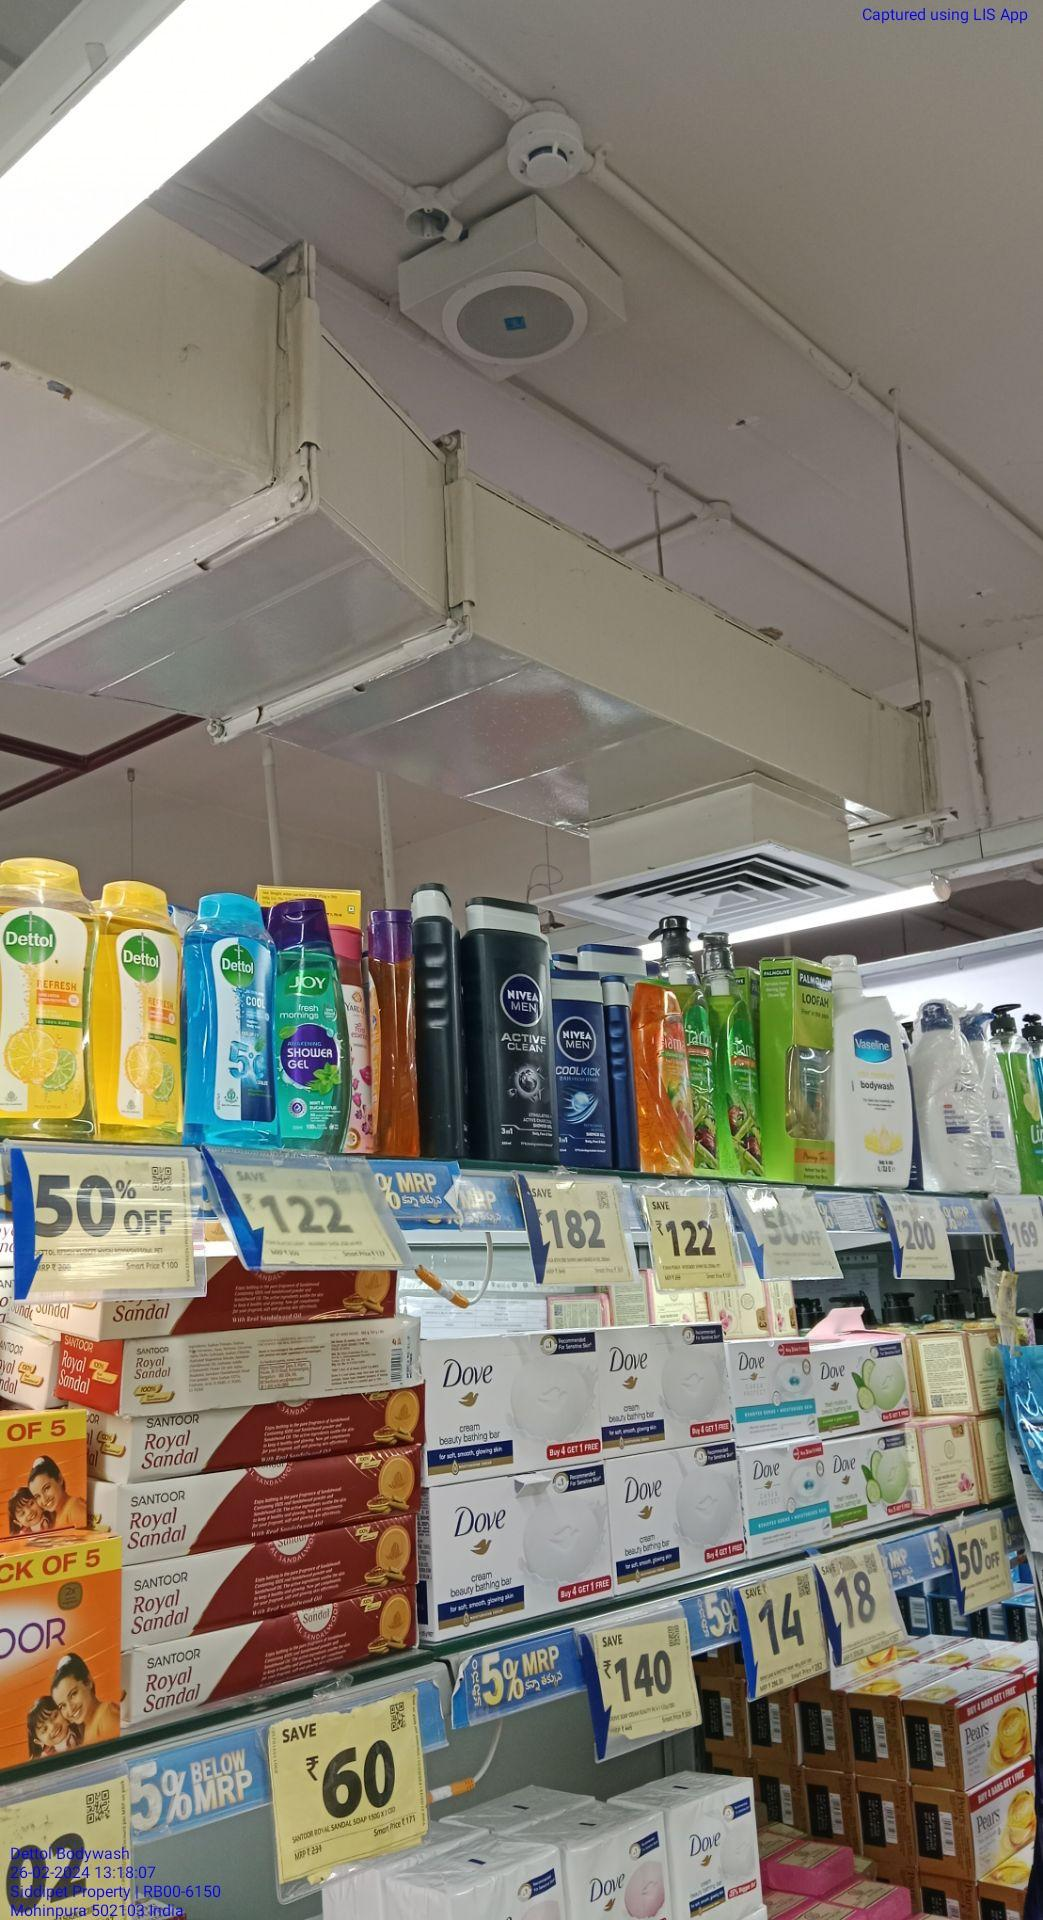Dettol_Bodywash_Cool: (186, 890, 277, 1151)
Dettol_Bodywash_Refresh: (0, 857, 91, 1138), (90, 878, 186, 1144)
Fiama_Shower_Gel_Patchouli_and_Macadamia_250ML: (631, 972, 696, 1178)
